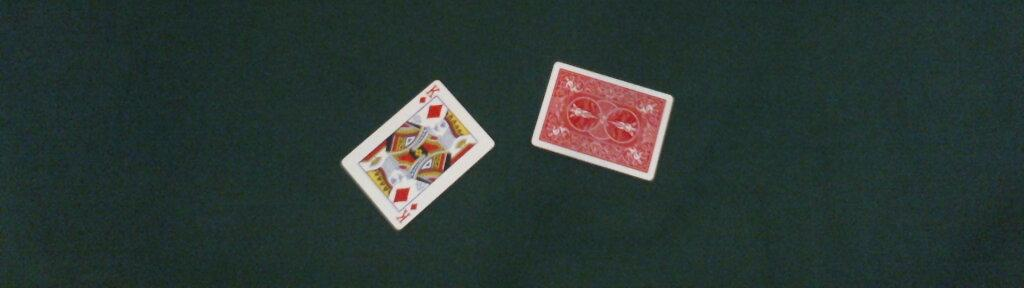back: (530, 60, 675, 182)
king: (338, 80, 496, 230)
